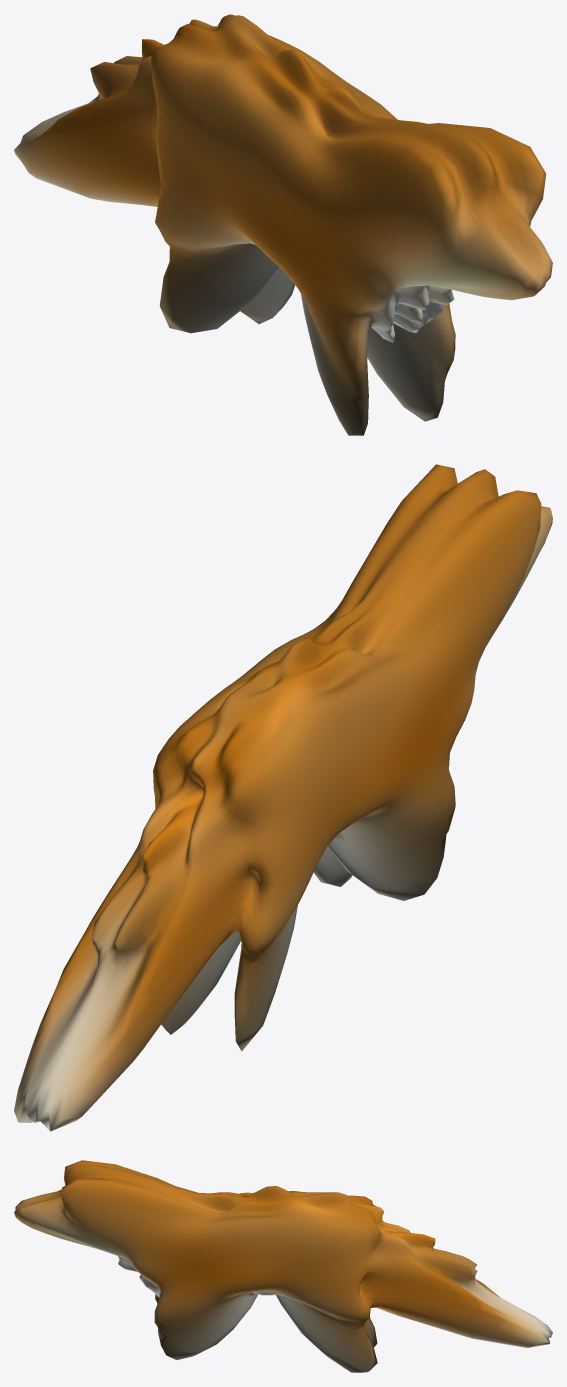
Rendered from Fox_256B_sh.glb.
3 renders of one model, top to bottom at view 1: azimuth 30°, elevation 25°; view 2: azimuth 150°, elevation 25°; view 3: azimuth 270°, elevation 25°, orthographic. The views are drawn at different scales.
Bounding box in the file's own units: 0.2987 × 0.8368 × 2.07.
